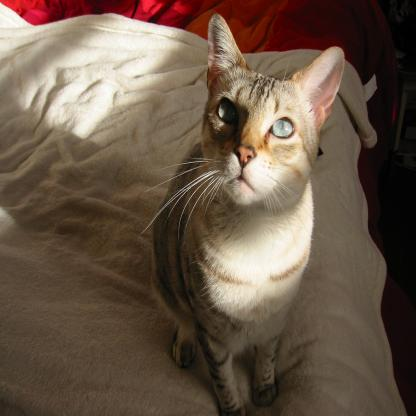Dog: (144, 15, 349, 416)
